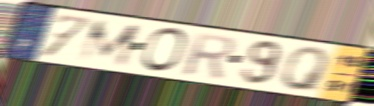7: (40, 12, 93, 60)
9: (240, 39, 284, 87)
M: (75, 19, 143, 68)
O: (139, 26, 190, 75)
Q: (279, 46, 332, 94)
R: (181, 31, 237, 81)
